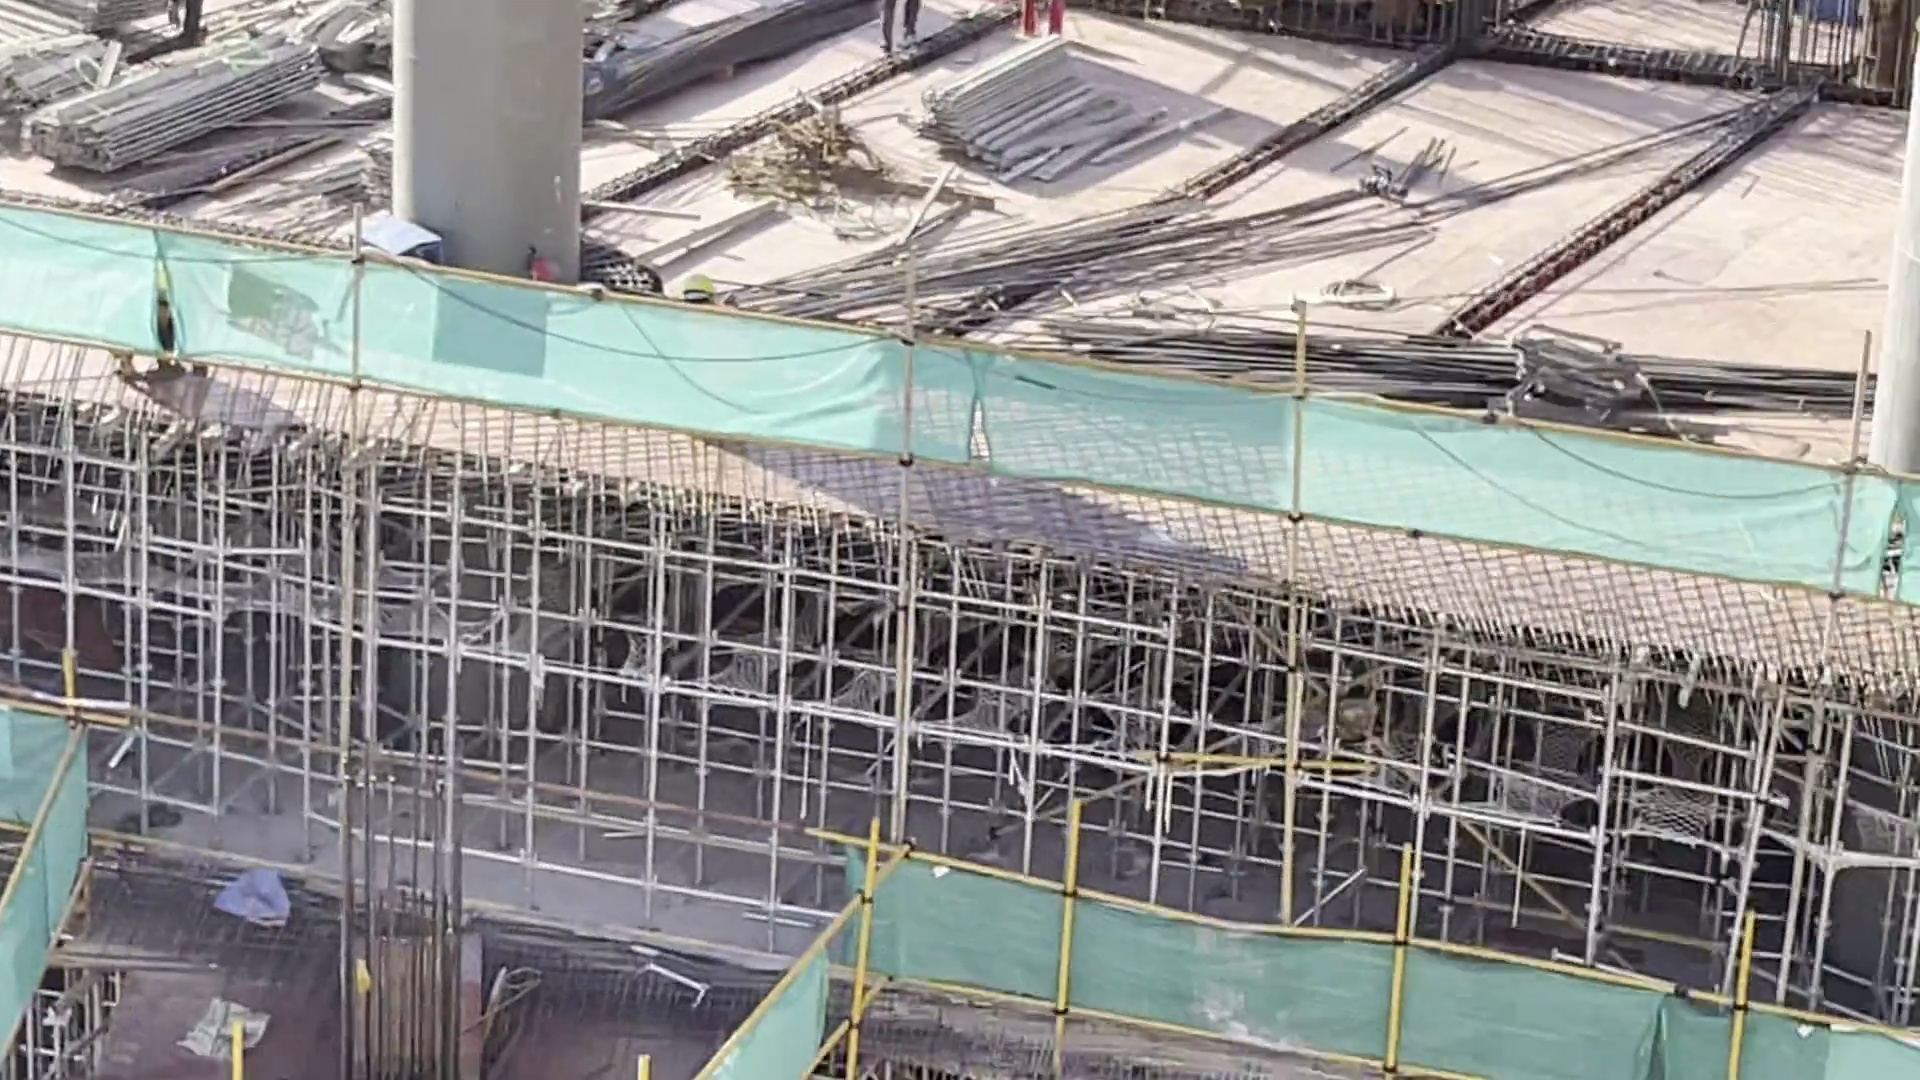wood: (25, 37, 324, 175), (914, 37, 1143, 167)
